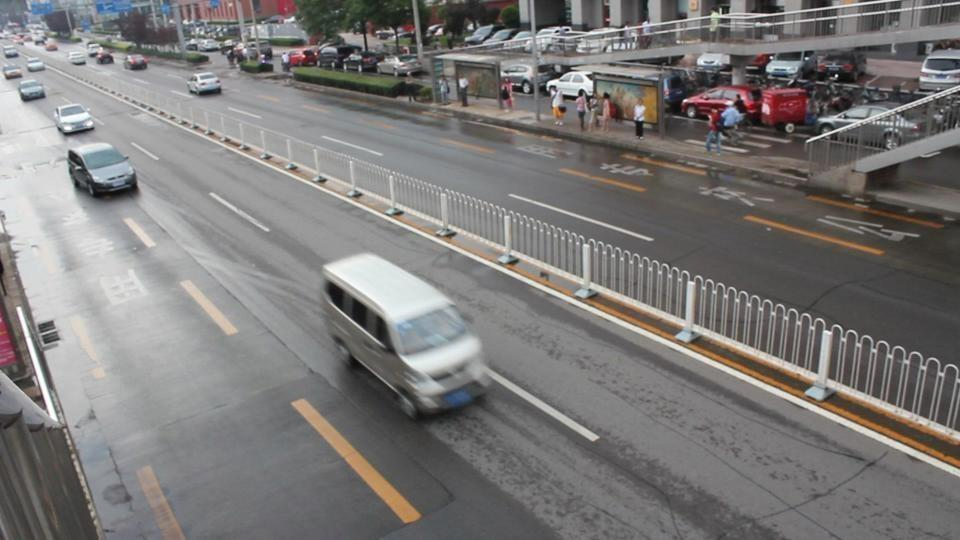car: (320, 252, 490, 421), (66, 140, 139, 198), (805, 103, 908, 142), (679, 86, 759, 121), (501, 63, 567, 95), (803, 51, 867, 82), (764, 50, 816, 86), (918, 50, 960, 89), (463, 25, 528, 48), (54, 102, 95, 136), (549, 72, 597, 99), (376, 55, 423, 77), (187, 71, 223, 96), (17, 79, 46, 102), (283, 48, 318, 67), (125, 53, 149, 71), (2, 65, 23, 81), (69, 49, 87, 65), (25, 59, 45, 72)
